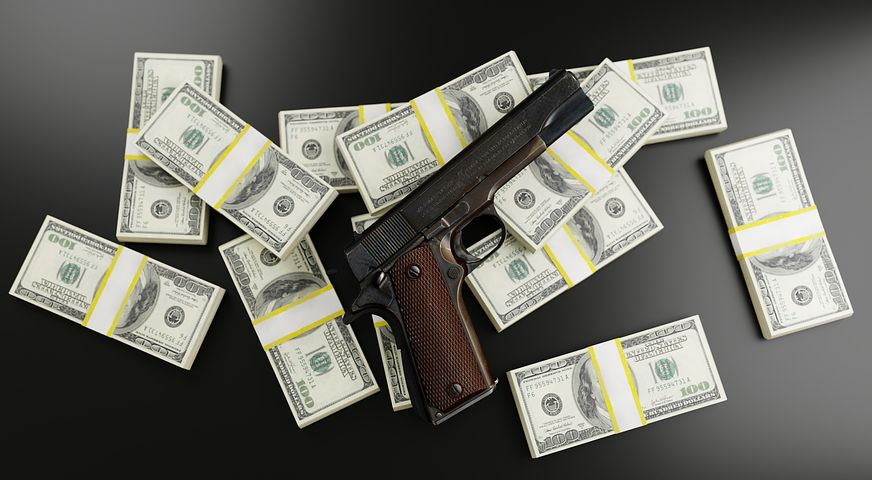gun: (349, 70, 604, 415)
